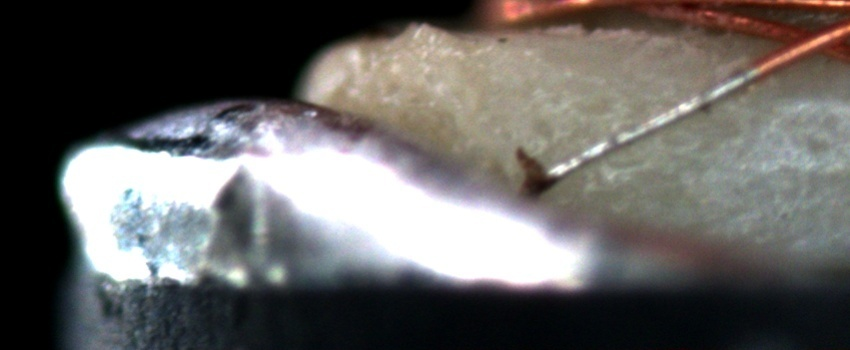CL: (763, 18, 846, 68)
DL: (595, 135, 849, 191)
TS: (542, 65, 762, 181)
